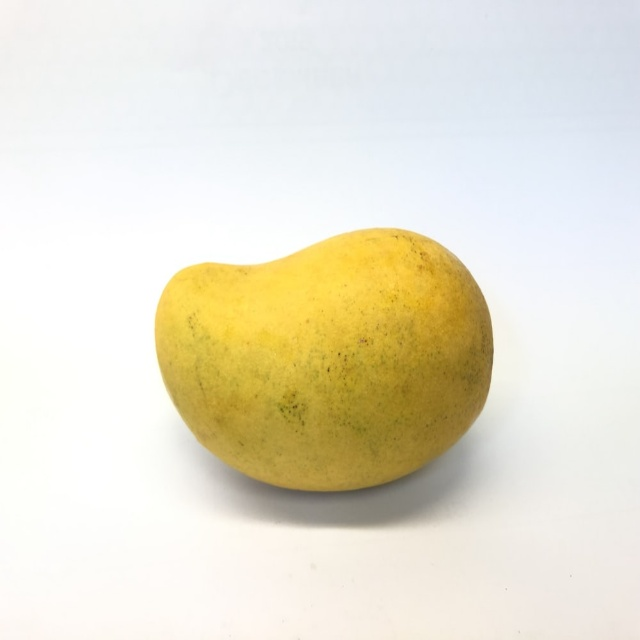mango: (153, 226, 489, 493)
